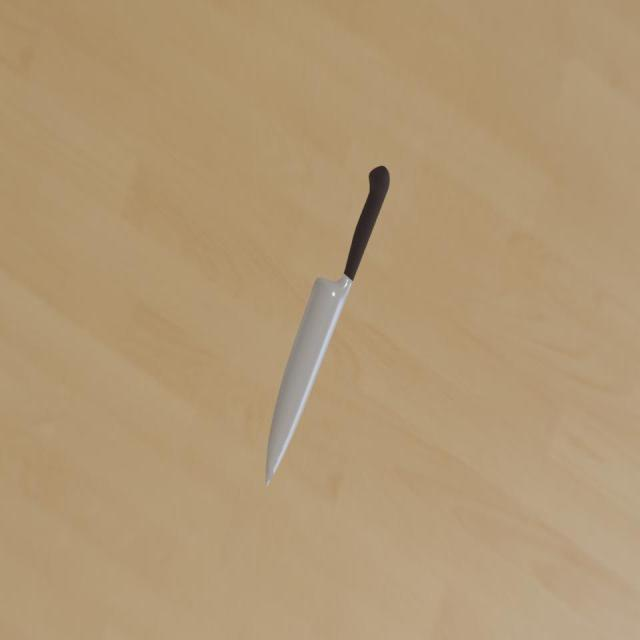knife: (342, 166, 390, 282)
